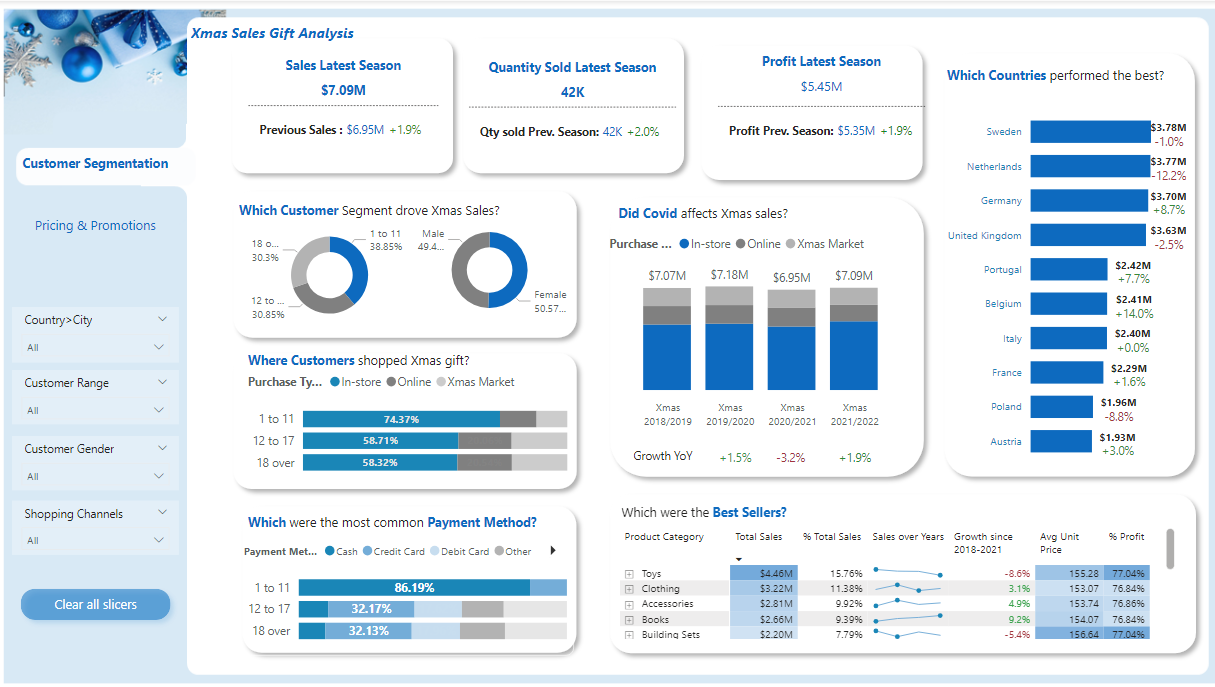

This screenshot's page, from the dashboard's own definition file:
{"tool":"powerbi","page":{"name":"Customer Segmentation ","canvas":[1280,720],"ordinal":0},"visuals":[{"type":"shape","box":[236.3,30.4,248.1,158.7],"z":0},{"type":"cardVisual","fields":{"Data":["Measure.Sales 21"]},"box":[256.6,45.6,209.3,126.6],"z":1000},{"type":"shape","box":[477,30.4,248.1,158.7],"z":2000},{"type":"shape","box":[725.1,37.1,248.2,157.9],"z":3000},{"type":"cardVisual","fields":{"Data":["Measure.Unit Sold 21"]},"box":[486.1,47.3,227.9,126.6],"z":4000},{"type":"cardVisual","fields":{"Data":["Measure.Profit 21"]},"box":[746.1,37.1,227.9,143.5],"z":5000},{"type":"shape","box":[978.1,45.1,278.8,459.3],"z":6000},{"type":"textbox","box":[984.6,62.8,265.9,46.7],"z":7000},{"type":"clusteredBarChart","fields":{"Category":["Xmas Dataset.Country","Xmas Dataset.City"],"Y":["Measure.Sales"]},"box":[978.1,96.7,265.9,393.2],"z":8000},{"type":"shape","box":[236.9,188.5,375.5,170.8],"z":9000},{"type":"textbox","box":[246.5,203,307.8,37.1],"z":10000},{"type":"donutChart","fields":{"Category":["Xmas Dataset.Customer Age Range"],"Y":["Sum(Xmas Dataset.Total Sales)"]},"box":[256.3,226.6,179.7,117.2],"z":11000},{"type":"donutChart","fields":{"Y":["Sum(Xmas Dataset.Total Sales)"],"Category":["Xmas Dataset.Gender"]},"box":[425.4,222.4,175.6,116],"z":12000},{"type":"shape","box":[630.1,195,344.8,309.4],"z":13000},{"type":"textbox","box":[643,206.3,299.7,45.1],"z":14000},{"type":"columnChart","fields":{"Category":["Dim_date.Xmas Season "],"Y":["Measure.Sales"],"Series":["Xmas Dataset.Purchase Type"]},"box":[633.3,233.7,317.5,219.2],"z":15000},{"type":"textbox","box":[657.5,457.6,88.6,32.2],"z":16000},{"type":"tableEx","fields":{"Values":["Measure.Delta Sales 19 18","Measure.Delta Sales 20 19","Measure.Delta Sales 21 20"]},"box":[725.1,438.3,235.3,53.2],"z":17000},{"type":"shape","box":[236.9,357.7,375.5,159.5],"z":18000},{"type":"textbox","box":[256.2,359.3,299.7,33.8],"z":19000},{"type":"hundredPercentStackedBarChart","fields":{"Category":["Xmas Dataset.Customer Age Range"],"Series":["Xmas Dataset.Purchase Type"],"Y":["Sum(Xmas Dataset.Total Sales)"]},"box":[256.2,377.1,343.2,127.3],"z":20000},{"type":"shape","box":[246.5,517.3,365.8,170.8],"z":21000},{"type":"textbox","box":[256.2,528.5,356.1,41.9],"z":22000},{"type":"hundredPercentStackedBarChart","fields":{"Category":["Xmas Dataset.Customer Age Range"],"Y":["Sum(Xmas Dataset.Total Sales)"],"Series":["Xmas Dataset.Payment Method"]},"box":[248.2,549.5,352.9,132.1],"z":23000},{"type":"shape","box":[630.1,504.4,628.5,183.7],"z":24000},{"type":"pivotTable","fields":{"Rows":["Xmas Dataset.Product Category","Xmas Dataset.Product Name"],"Values":["Measure.Sales","Divide(Measure.Sales, ScopedEval(Measure.Sales, []))","SparklineData(Measure.Sales_[Dim_date.Xmas Season ])","Measure.Delta Sales 21 18 Table","Avg(Xmas Dataset.Unit Price)","Measure.% Profit"]},"box":[644.6,544.7,588.2,125.7],"z":25000},{"type":"textbox","box":[646.2,517.3,203,32.2],"z":26000},{"type":"slicer","fields":{"Values":["Xmas Dataset.Country","Xmas Dataset.City"]},"box":[16.1,319.1,174,58],"z":26001},{"type":"slicer","fields":{"Values":["Xmas Dataset.Customer Age Range"]},"box":[16.1,385.1,174,56.4],"z":26002},{"type":"slicer","fields":{"Values":["Xmas Dataset.Gender"]},"box":[16.1,452.8,174,56.4],"z":26003},{"type":"slicer","fields":{"Values":["Xmas Dataset.Purchase Type"]},"box":[16.1,520.5,174,56.4],"z":26004},{"type":"actionButton","box":[15.8,603.1,174.1,50.7],"z":26005},{"type":"actionButton","box":[15.6,148.5,173.5,40.6],"z":26006},{"type":"actionButton","box":[15.6,212.6,173.5,40.6],"z":26007},{"type":"textbox","box":[196.9,17.2,300.1,39.1],"z":26008}]}

Visuals, with their boxes in screenshot pixels (x1, y1, x2, y2), scaled from the page's 1280x720 canvas onto the 1215x687 screenshot:
shape: bbox=(224, 29, 460, 180)
cardVisual - Measure.Sales 21: bbox=(244, 44, 442, 164)
shape: bbox=(453, 29, 688, 180)
shape: bbox=(688, 35, 924, 186)
cardVisual - Measure.Unit Sold 21: bbox=(461, 45, 678, 166)
cardVisual - Measure.Profit 21: bbox=(708, 35, 925, 172)
shape: bbox=(928, 43, 1193, 481)
textbox: bbox=(935, 60, 1187, 104)
clusteredBarChart - Xmas Dataset.Country x Xmas Dataset.City: bbox=(928, 92, 1181, 467)
shape: bbox=(225, 180, 581, 343)
textbox: bbox=(234, 194, 526, 229)
donutChart - Xmas Dataset.Customer Age Range x Sum(Xmas Dataset.Total Sales): bbox=(243, 216, 414, 328)
donutChart - Sum(Xmas Dataset.Total Sales) x Xmas Dataset.Gender: bbox=(404, 212, 570, 323)
shape: bbox=(598, 186, 925, 481)
textbox: bbox=(610, 197, 895, 240)
columnChart - Dim_date.Xmas Season  x Measure.Sales: bbox=(601, 223, 903, 432)
textbox: bbox=(624, 437, 708, 467)
tableEx - Measure.Delta Sales 19 18 x Measure.Delta Sales 20 19: bbox=(688, 418, 912, 469)
shape: bbox=(225, 341, 581, 493)
textbox: bbox=(243, 343, 528, 375)
hundredPercentStackedBarChart - Xmas Dataset.Customer Age Range x Xmas Dataset.Purchase Type: bbox=(243, 360, 569, 481)
shape: bbox=(234, 494, 581, 657)
textbox: bbox=(243, 504, 581, 544)
hundredPercentStackedBarChart - Xmas Dataset.Customer Age Range x Sum(Xmas Dataset.Total Sales): bbox=(236, 524, 571, 650)
shape: bbox=(598, 481, 1195, 657)
pivotTable - Xmas Dataset.Product Category x Xmas Dataset.Product Name: bbox=(612, 520, 1170, 640)
textbox: bbox=(613, 494, 806, 524)
slicer - Xmas Dataset.Country x Xmas Dataset.City: bbox=(15, 304, 180, 360)
slicer - Xmas Dataset.Customer Age Range: bbox=(15, 367, 180, 421)
slicer - Xmas Dataset.Gender: bbox=(15, 432, 180, 486)
slicer - Xmas Dataset.Purchase Type: bbox=(15, 497, 180, 550)
actionButton: bbox=(15, 575, 180, 624)
actionButton: bbox=(15, 142, 179, 180)
actionButton: bbox=(15, 203, 179, 242)
textbox: bbox=(187, 16, 472, 54)
